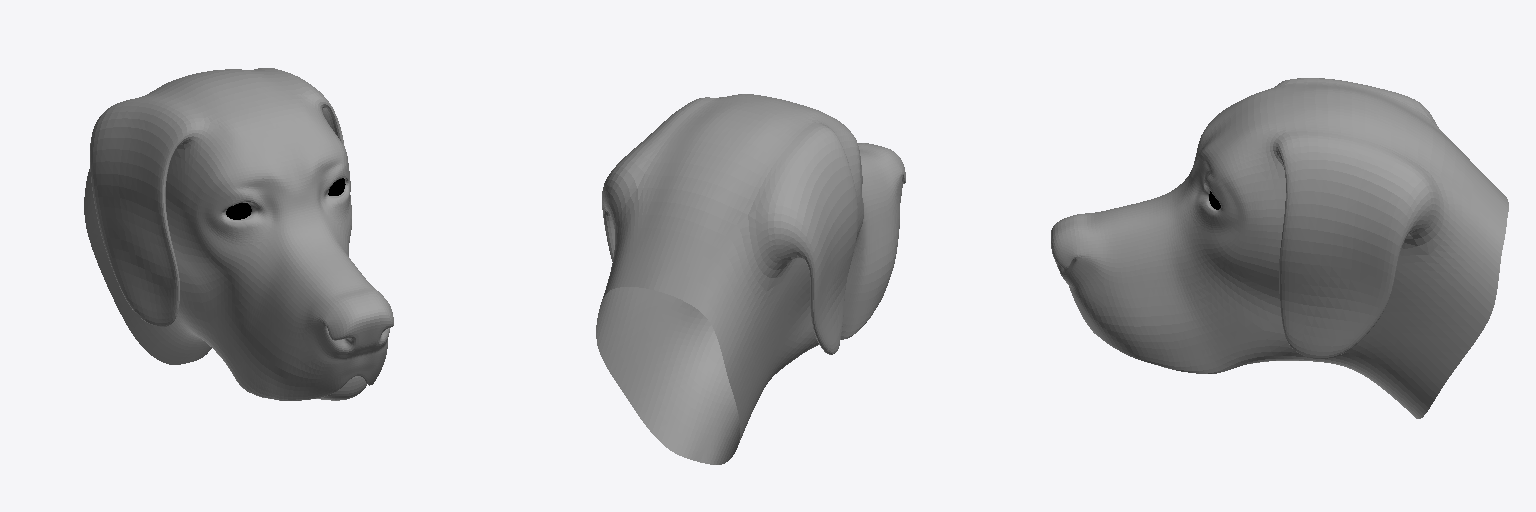
Rendered from dog.obj.
3 views of the same model, side by side, from view 1: azimuth 30°, elevation 25°; view 2: azimuth 150°, elevation 25°; view 3: azimuth 270°, elevation 25° (orthographic).
Visible parts, largest first — view 1: Head, Eyes_Plane.001; view 2: Head; view 3: Head.
Part boxes in pixels (left/top/right/bottom): Head: left=84, top=68, right=393, bottom=400; Eyes_Plane.001: left=226, top=178, right=345, bottom=219; Head: left=596, top=94, right=905, bottom=464; Head: left=1051, top=78, right=1508, bottom=418.
Size of the model in its own units: 2.55 by 3.6 by 4.76.